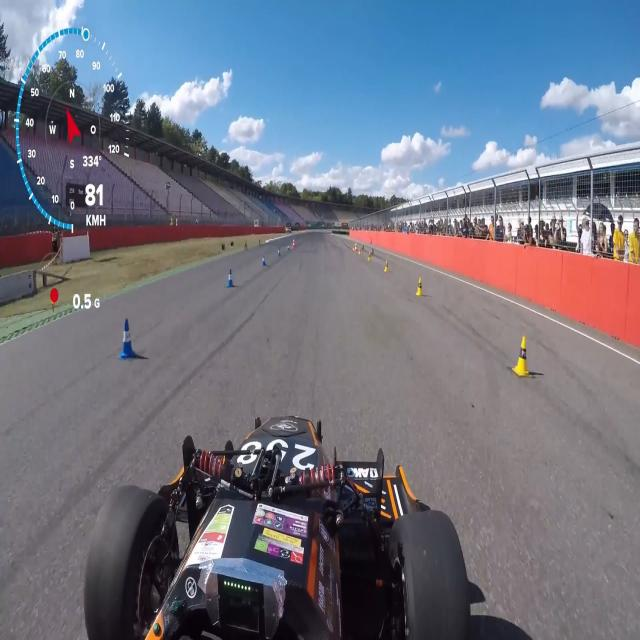blue_cone: (116, 318, 136, 362), (227, 268, 234, 288), (262, 254, 267, 266)
large_orange_cone: (292, 238, 296, 250), (354, 242, 358, 252)
yellow_cone: (512, 335, 530, 379), (416, 275, 423, 297), (384, 260, 389, 273)
